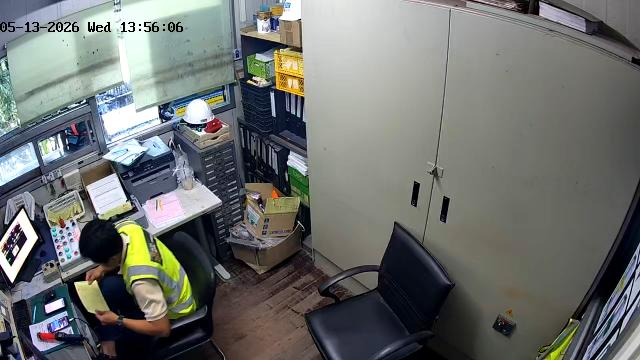Head: (79, 219, 122, 267)
People: (79, 219, 196, 358)
Phone: (47, 316, 69, 332), (44, 298, 65, 314)
